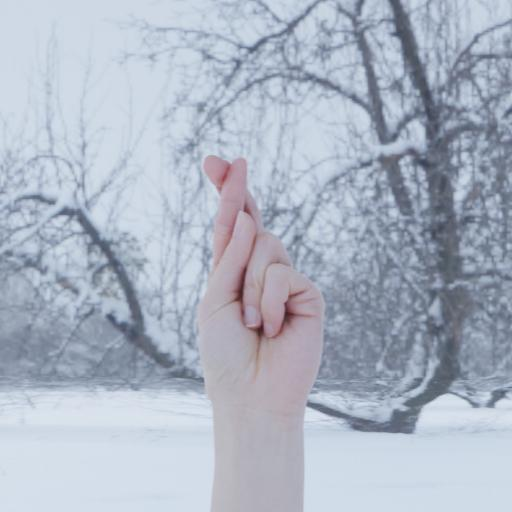R: (191, 148, 331, 430)
